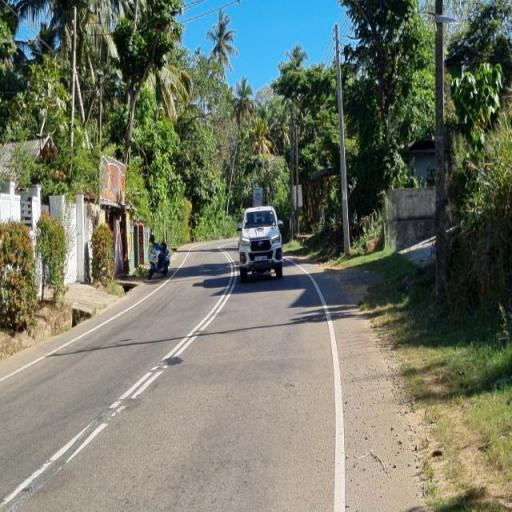double_white_line: (109, 254, 237, 418)
